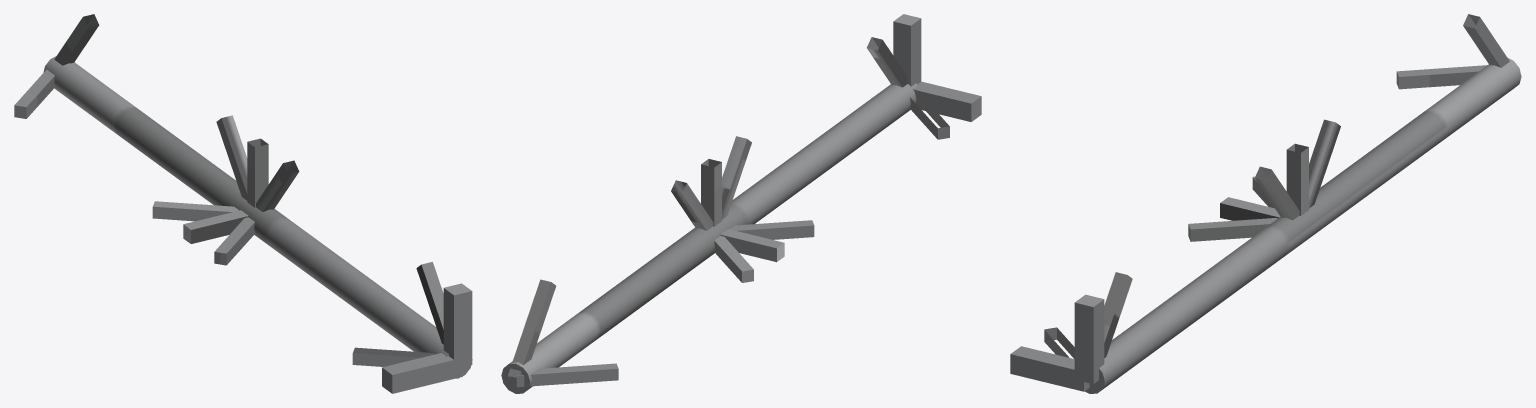
The picture shows the model from 3 angles, left to right: view 1: azimuth 30°, elevation 25°; view 2: azimuth 150°, elevation 25°; view 3: azimuth 330°, elevation 25°; orthographic projection. The views are drawn at different scales.
Size of the model in its own units: 0.3146 by 0.3146 by 2.5.
